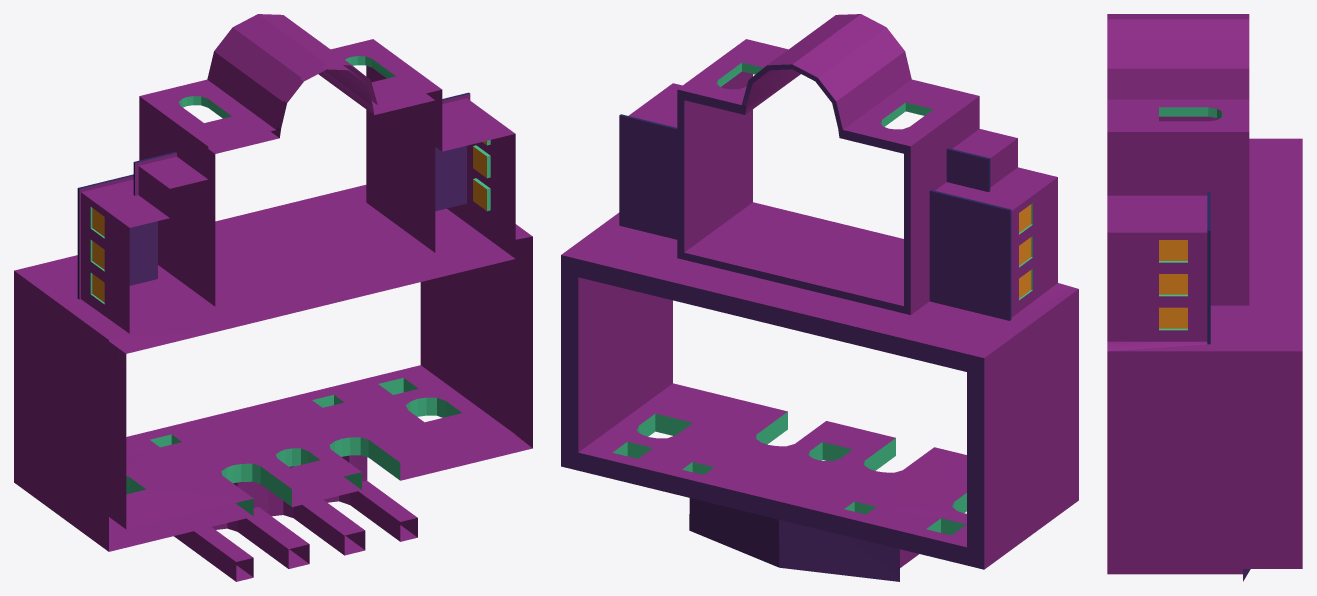
The model's file is Łaźnia-Rogatka Lubelska Tier 2.fbx.
3 views of the same model, side by side, from view 1: azimuth 30°, elevation 25°; view 2: azimuth 150°, elevation 25°; view 3: azimuth 270°, elevation 25° (orthographic). The views are drawn at different scales.
Visible parts, largest first — view 1: Laznia_Rogatka_Lubelska_Laznia_cala_; view 2: Laznia_Rogatka_Lubelska_Laznia_cala_; view 3: Laznia_Rogatka_Lubelska_Laznia_cala_.
Part boxes in pixels (x1,y1,x2,y2): Laznia_Rogatka_Lubelska_Laznia_cala_: (14, 14, 532, 581); Laznia_Rogatka_Lubelska_Laznia_cala_: (561, 14, 1078, 581); Laznia_Rogatka_Lubelska_Laznia_cala_: (1107, 14, 1302, 581).
Bounding box in the file's own units: 3.88 × 4.33 × 1.5.
